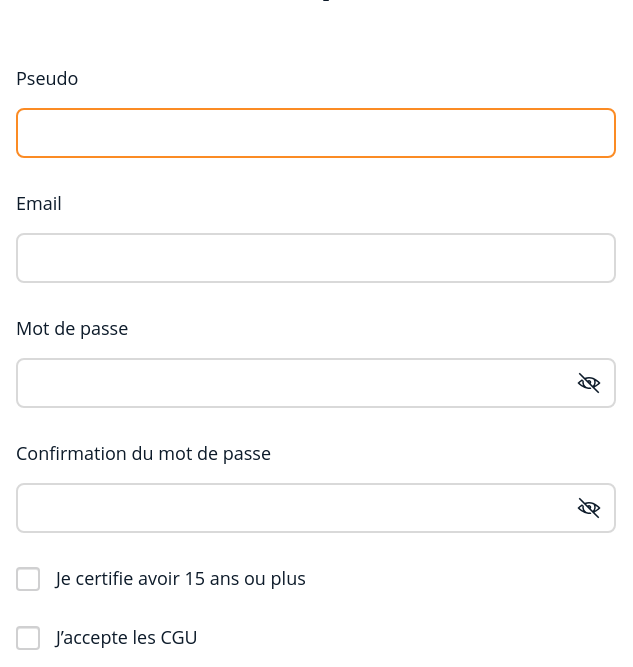
Test case: Signup Form › should not submit if the Pseudo is empty
Clear the field labelled "Pseudo": (316, 133) left=16, top=108, right=616, bottom=158
(page scrolled)
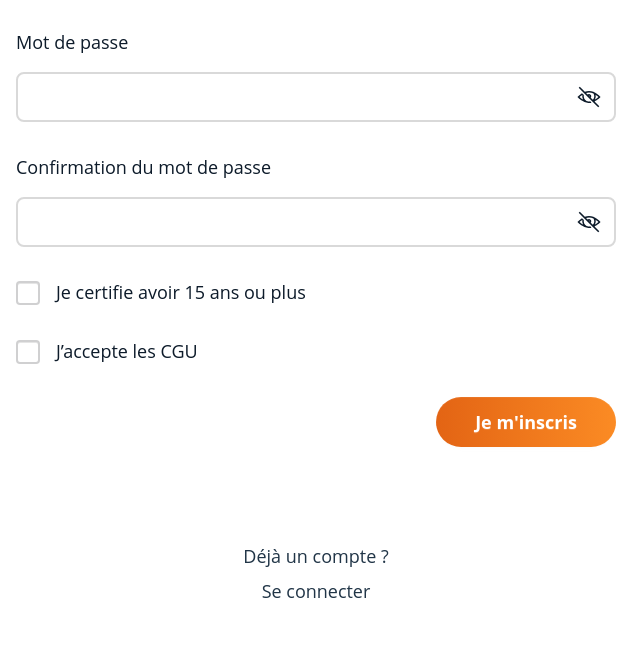
Click the button "Je m'inscris": (526, 422) left=436, top=397, right=616, bottom=447
(page scrolled)
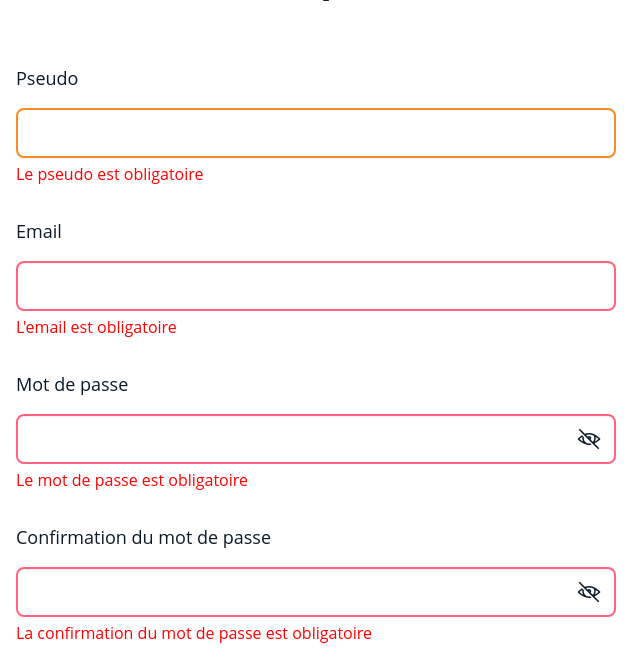
Expected: the message "Le pseudo est obligatoire" is shown, left=16, top=163, right=204, bottom=185
